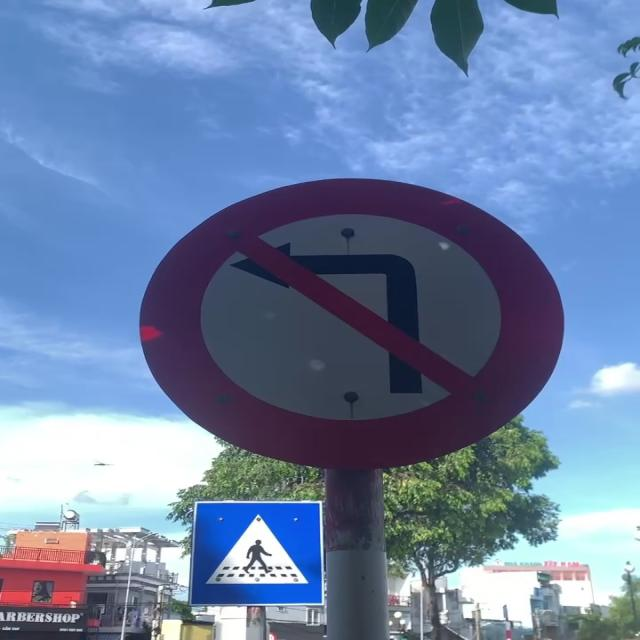Cam_Re_Trai: (134, 174, 569, 476)
